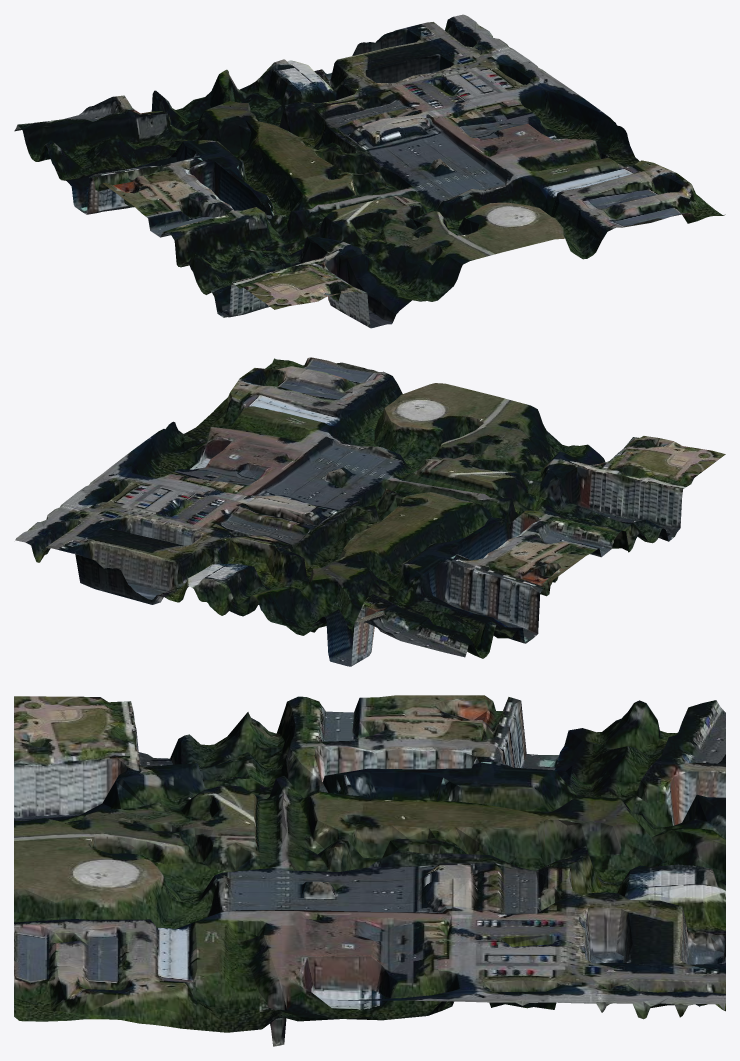
The model's file is map_13_2044_3448.dae.
The picture shows the model from 3 angles, top to bottom: view 1: azimuth 30°, elevation 25°; view 2: azimuth 150°, elevation 25°; view 3: azimuth 270°, elevation 25°; orthographic projection. The views are drawn at different scales.
Parts seen in each view (by area): view 1: Ter0; view 2: Ter0; view 3: Ter0.
Boxes of the visible parts, x1,y1,x2,y2 form: Ter0: (14, 14, 725, 328); Ter0: (15, 357, 725, 666); Ter0: (14, 695, 725, 1046).
Bounding box in the file's own units: 256 × 256 × 28.6.
Materials: 3 (3 with a texture image).
